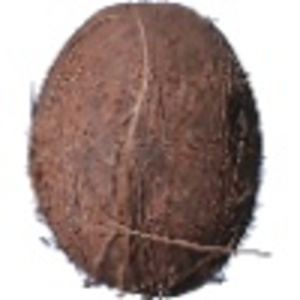coco: (27, 1, 267, 300)
